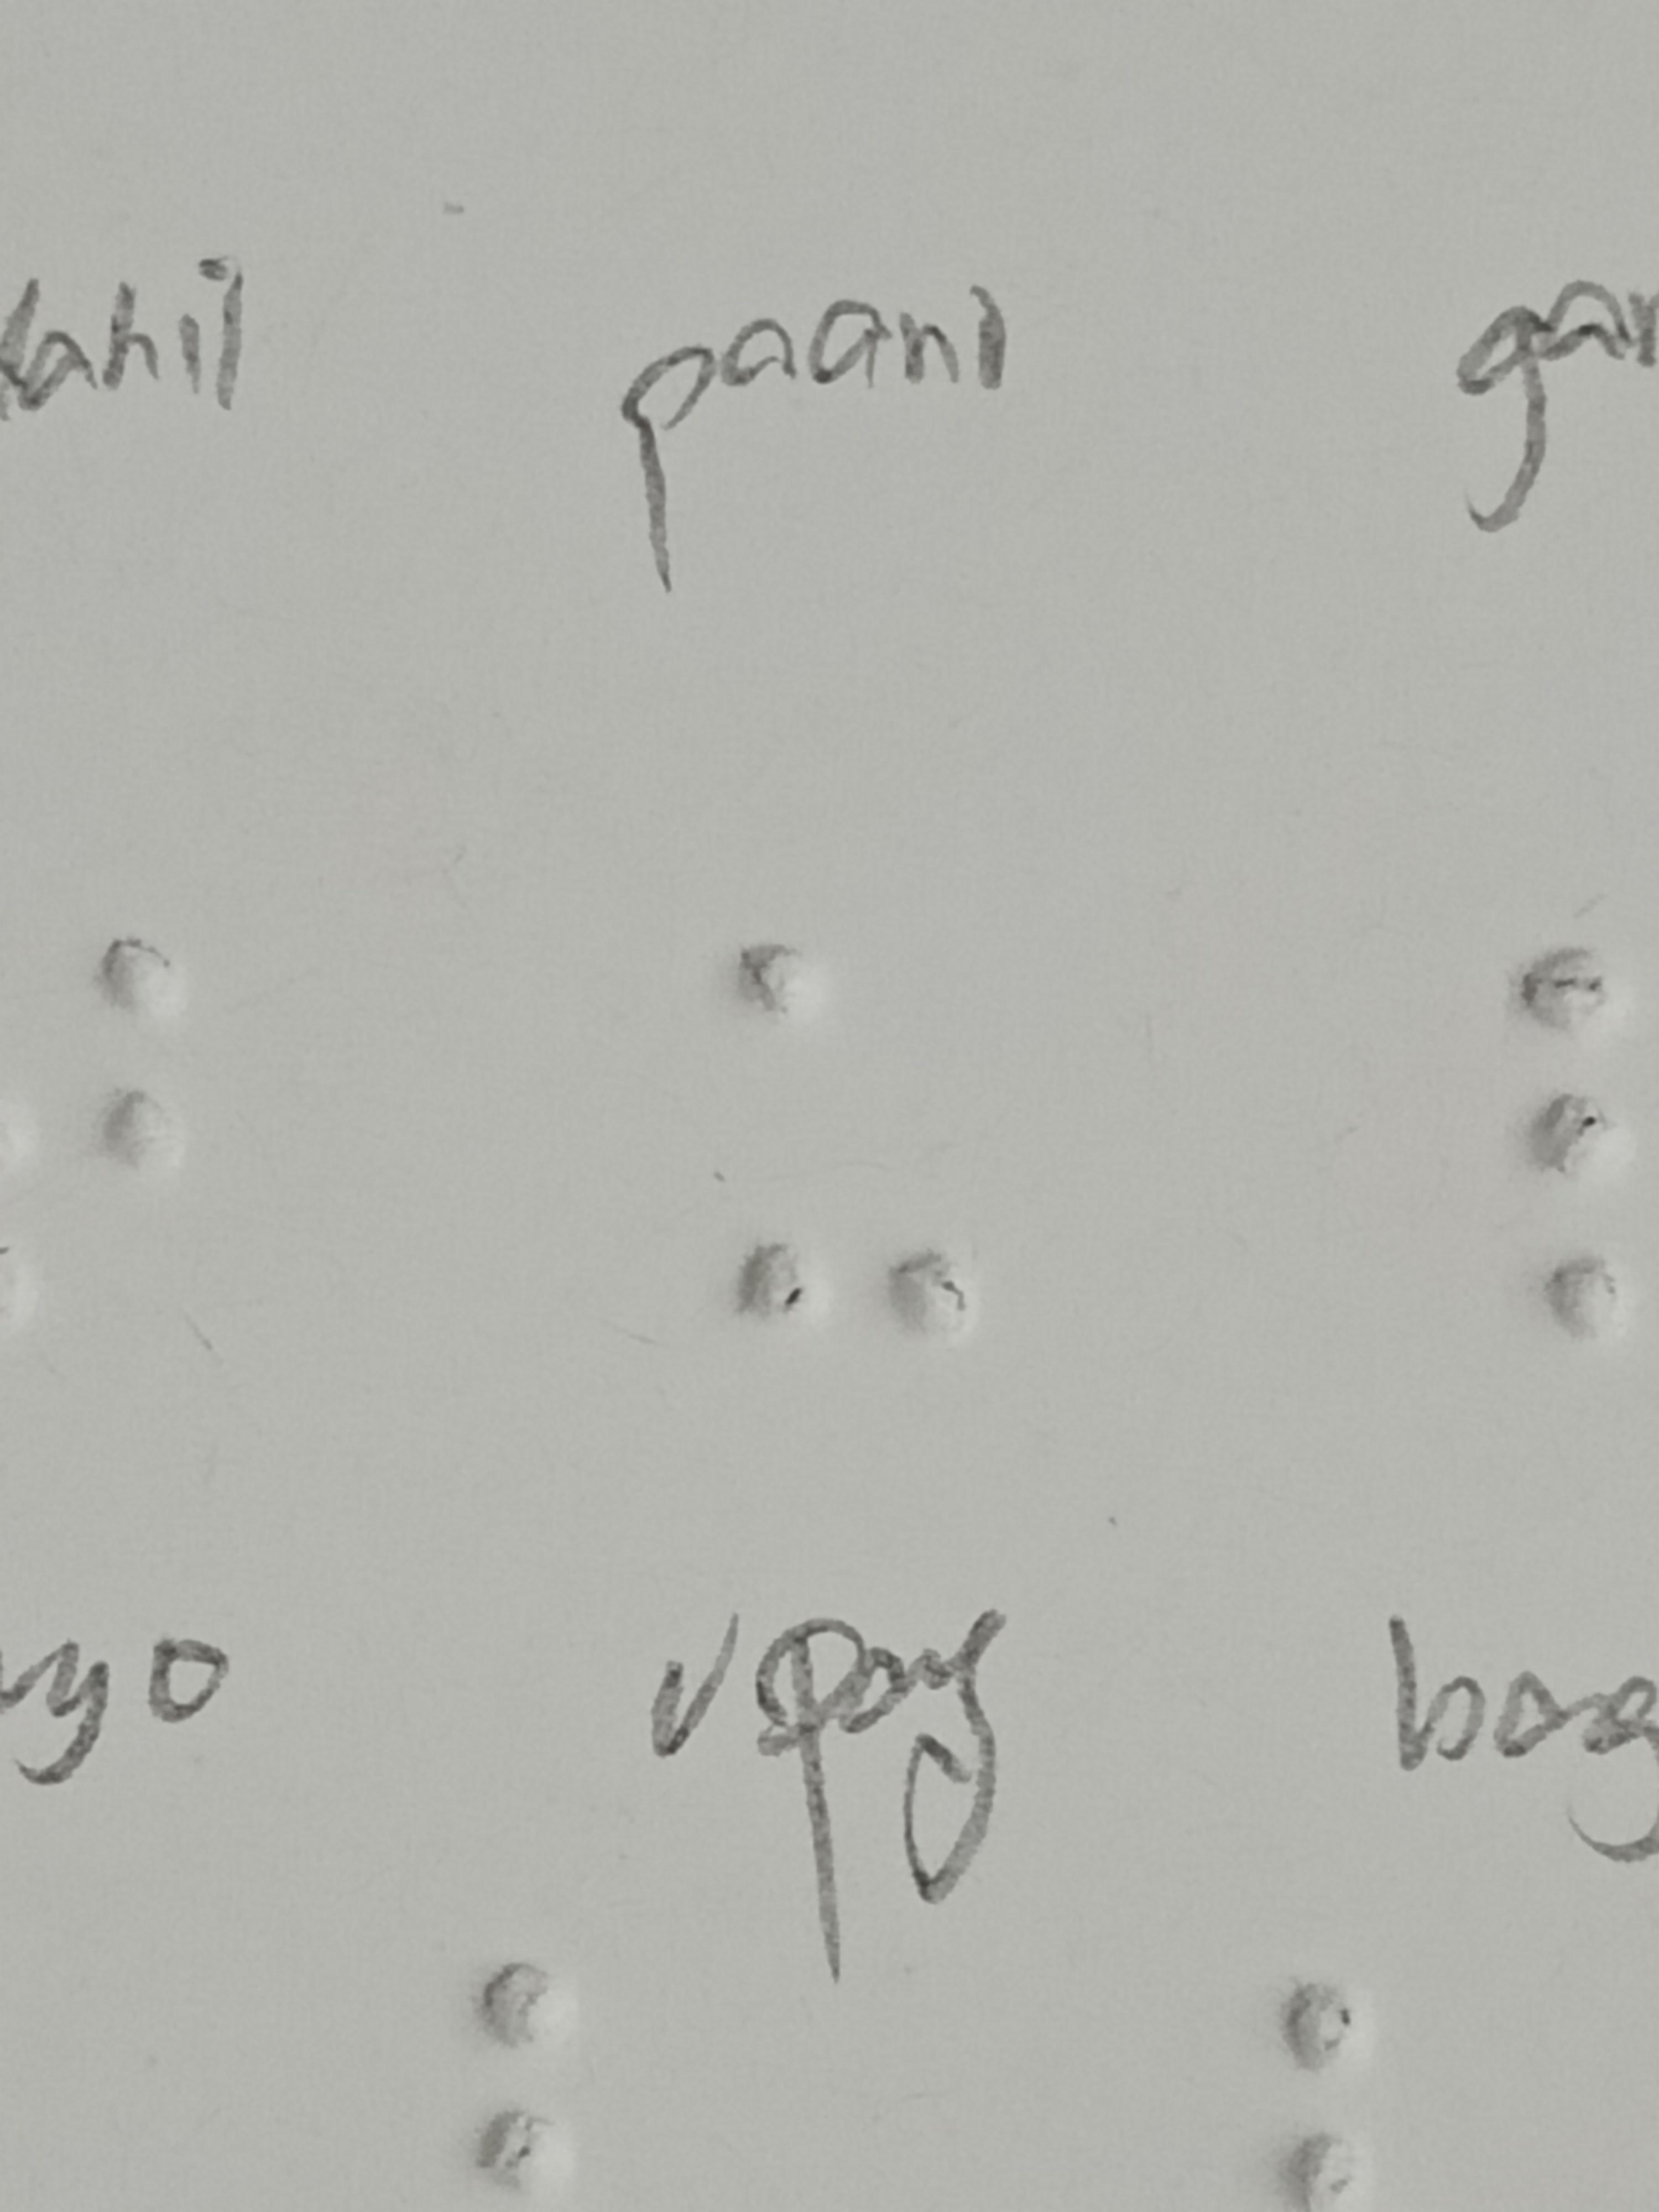one_cell_alphabet_upang: (732, 930, 983, 1343)
